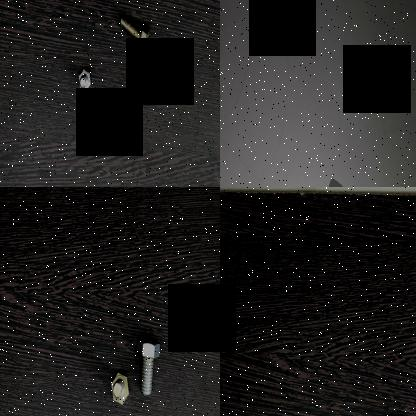Bolts: (132, 328, 164, 400), (116, 13, 153, 59), (110, 367, 132, 409), (76, 67, 94, 98)
